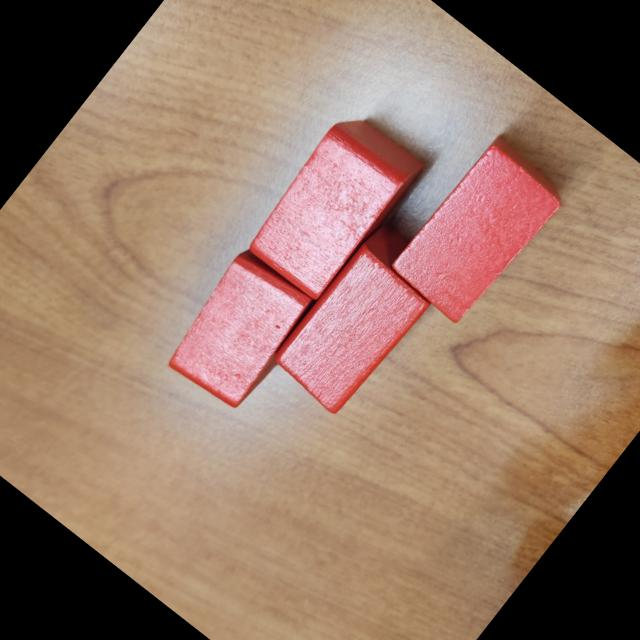red: (265, 216, 455, 422), (238, 105, 428, 308), (386, 133, 570, 331), (159, 246, 323, 417)
